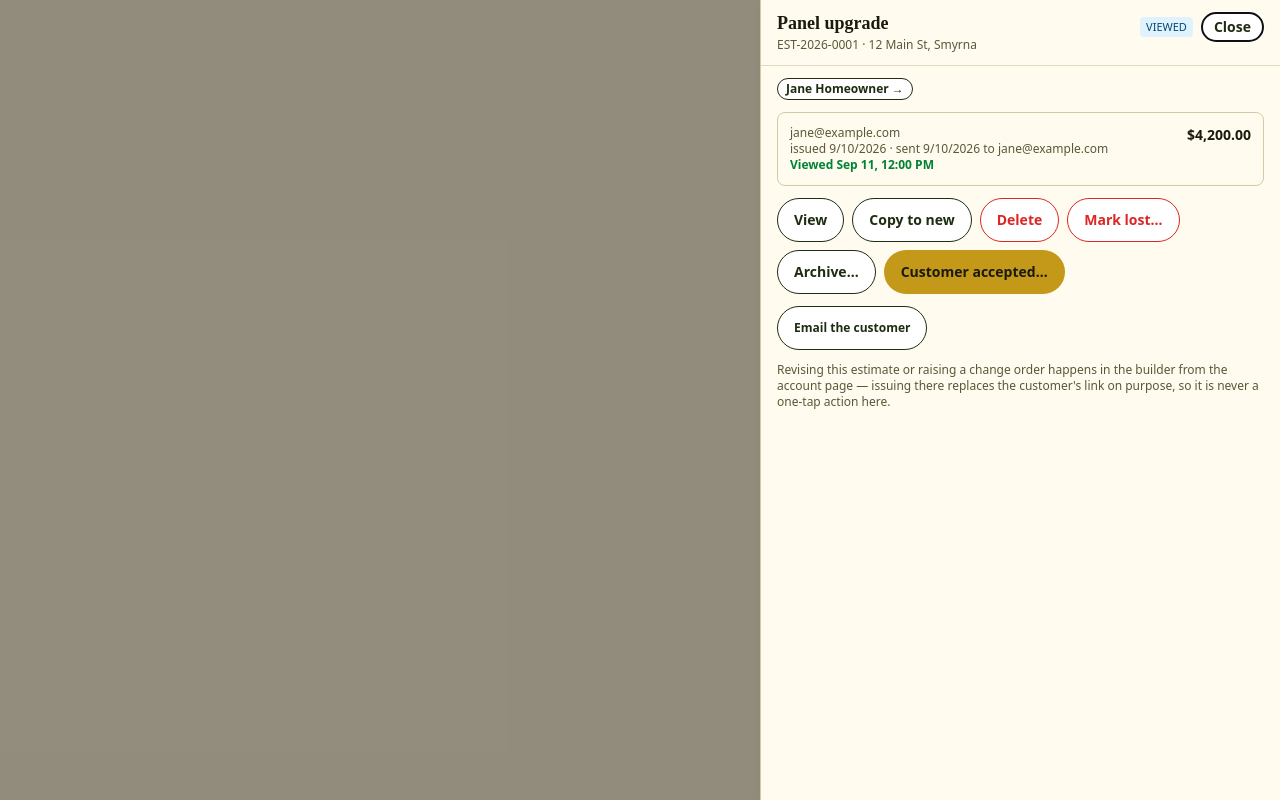
EstimateDrawer › offers Archive… beside Mark lost on a sent estimate, and sends the reason
Click the button "Archive…" at (826, 272), box [777, 250, 876, 294]
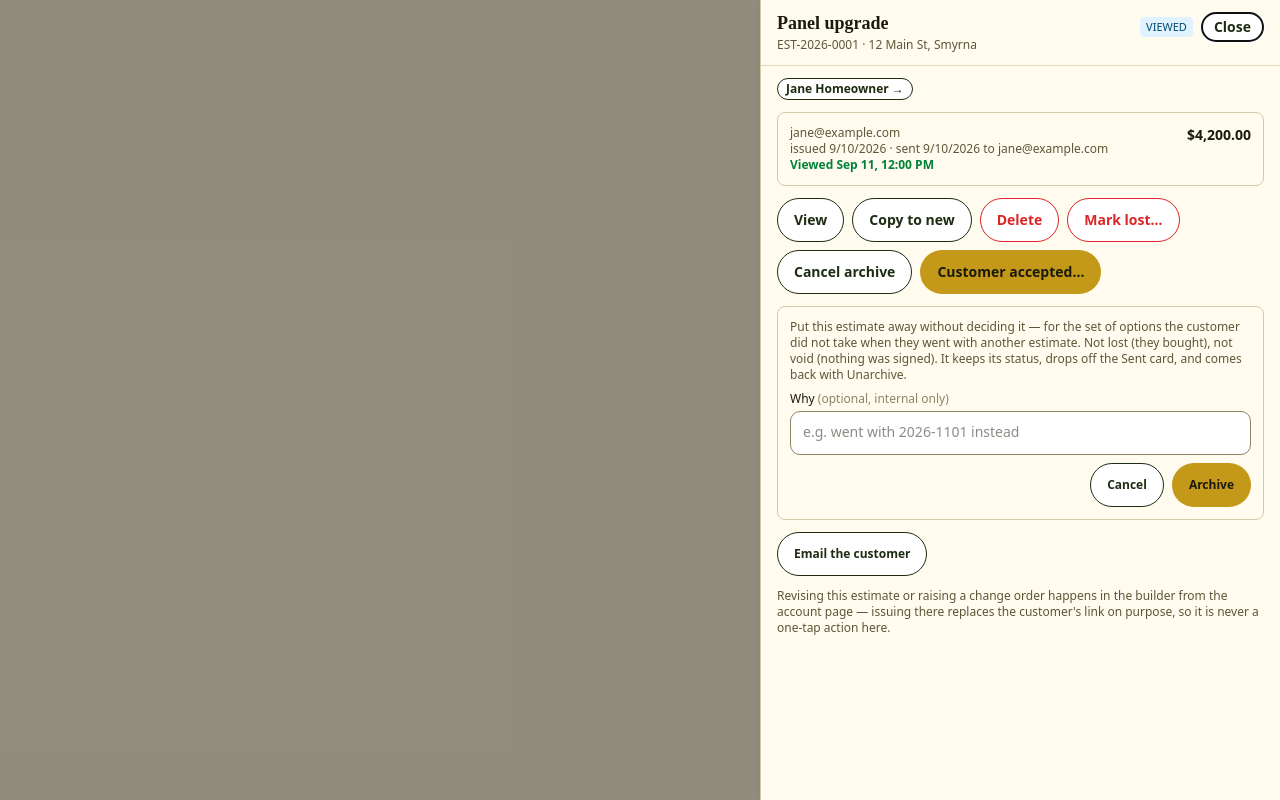
expect the button "Mark lost…" is shown: met, box [1067, 198, 1180, 242]
Type "went with 2026-1101 instead" into the field labelled "Why (optional, internal only)" at (1020, 432), box [790, 410, 1251, 454]
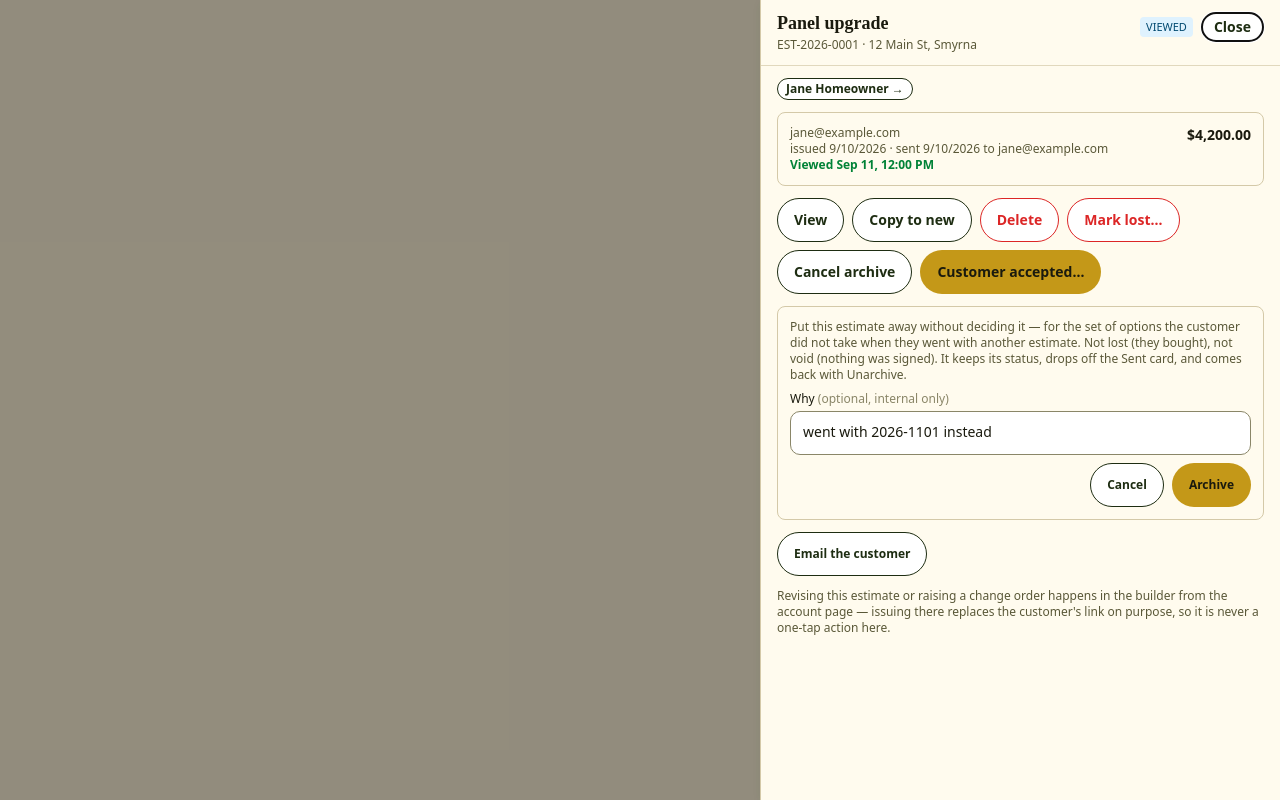
Click the button "Archive" at (1211, 484), box [1172, 462, 1251, 506]
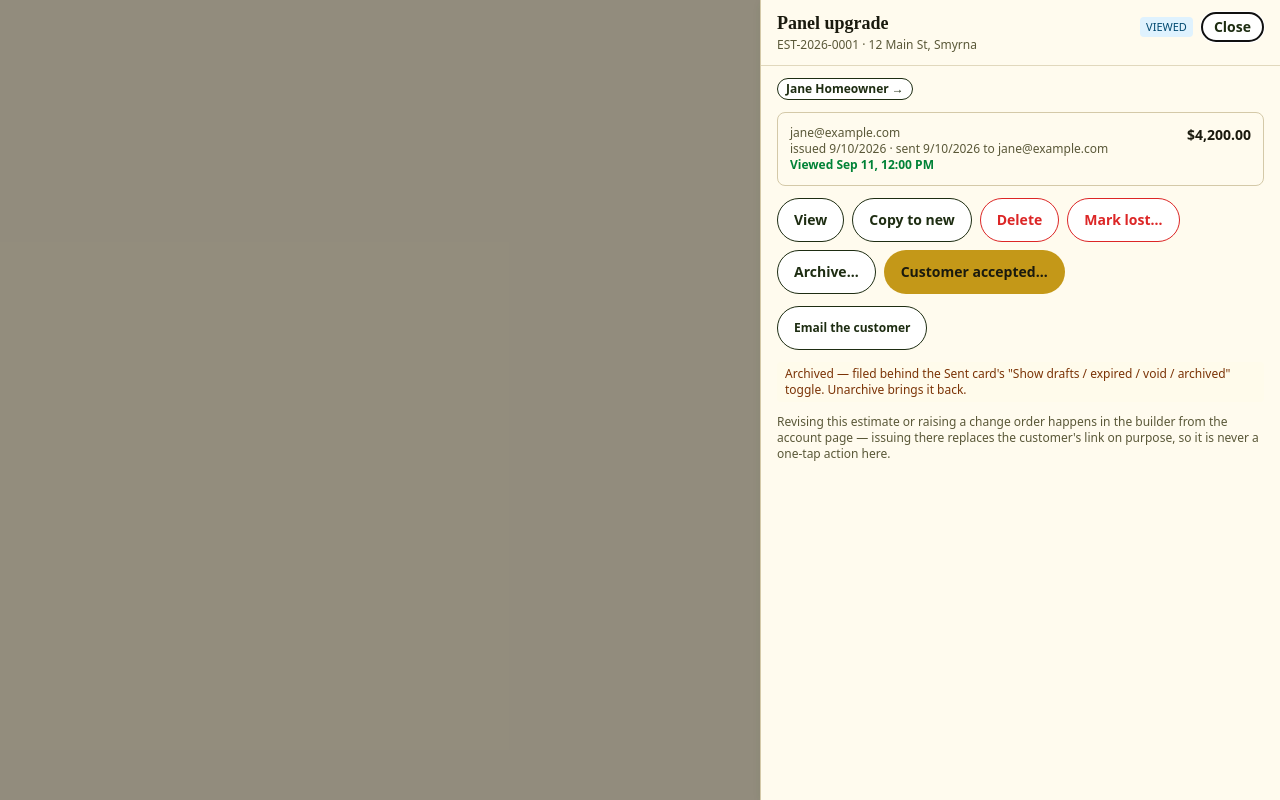
expect the text "Archived — filed behind the Sent card" is shown: met, box [785, 364, 1230, 398]
